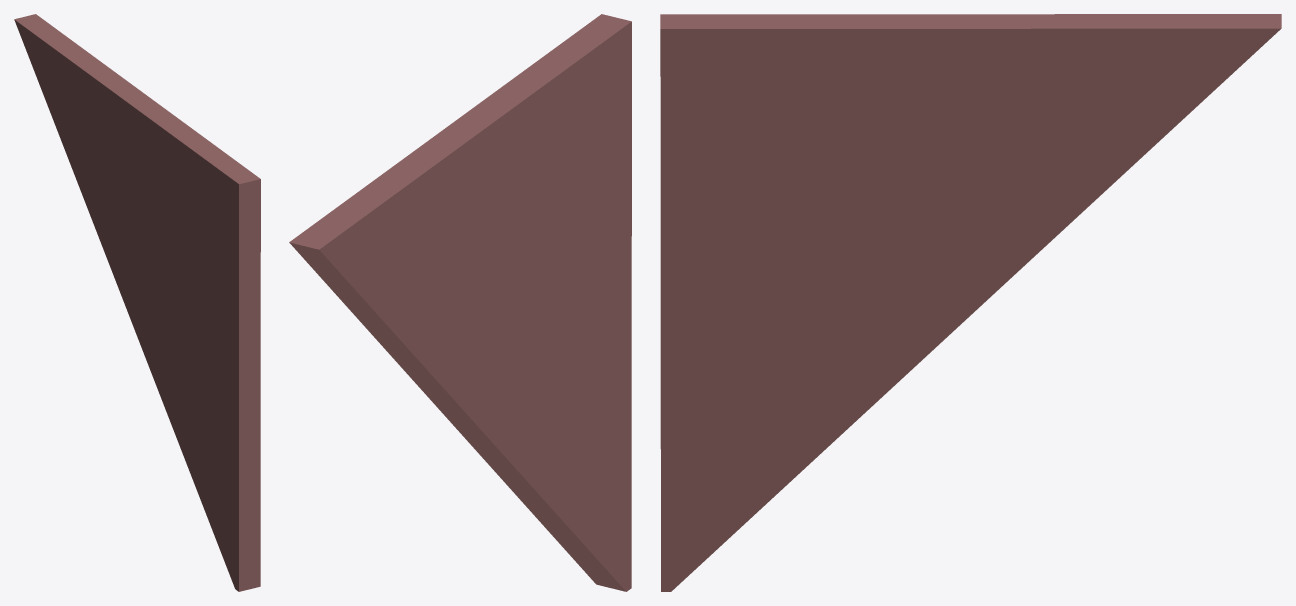
The model's file is Flag.fbx.
The picture shows the model from 3 angles, left to right: view 1: azimuth 30°, elevation 25°; view 2: azimuth 150°, elevation 25°; view 3: azimuth 270°, elevation 25°; orthographic projection. The views are drawn at different scales.
Visible parts, largest first — view 1: pCube1; view 2: pCube1; view 3: pCube1.
Boxes of the visible parts, bbox=[...] form: pCube1: bbox=[14, 14, 260, 591]; pCube1: bbox=[289, 14, 631, 591]; pCube1: bbox=[660, 14, 1281, 591].
Bounding box in the file's own units: 0.0921 × 1.65 × 1.65.
